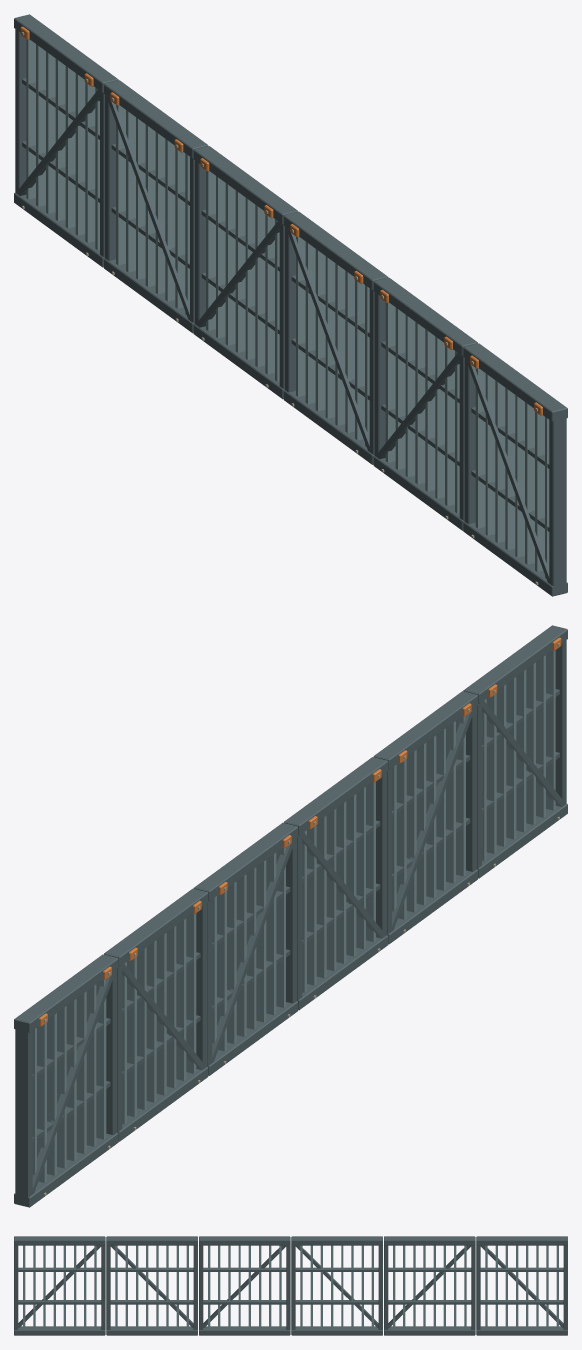
File: w4a-plate-gate-grate.glb
3 views of the same model, one above another, from view 1: azimuth 30°, elevation 25°; view 2: azimuth 150°, elevation 25°; view 3: azimuth 270°, elevation 25° (orthographic). The views are drawn at different scales.
Visible parts, largest first — view 1: Grate bay 01, Grate bay 02, Grate bay 03, Grate bay 04, Grate bay 06, Grate bay 05; view 2: Grate bay 06, Grate bay 05, Grate bay 04, Grate bay 03, Grate bay 01, Grate bay 02; view 3: Grate bay 01, Grate bay 06, Grate bay 03, Grate bay 04, Grate bay 02, Grate bay 05.
Part boxes in pixels (<box>): Grate bay 01: <box>463,343,567,596</box>; Grate bay 02: <box>373,277,477,530</box>; Grate bay 03: <box>283,211,388,464</box>; Grate bay 04: <box>193,146,298,399</box>; Grate bay 06: <box>14,14,118,267</box>; Grate bay 05: <box>104,80,208,333</box>; Grate bay 06: <box>14,954,118,1207</box>; Grate bay 05: <box>104,888,208,1141</box>; Grate bay 04: <box>193,822,298,1075</box>; Grate bay 03: <box>283,757,388,1010</box>; Grate bay 01: <box>463,625,567,878</box>; Grate bay 02: <box>373,691,477,944</box>; Grate bay 01: <box>14,1236,105,1335</box>; Grate bay 06: <box>476,1236,567,1335</box>; Grate bay 03: <box>199,1236,290,1335</box>; Grate bay 04: <box>291,1236,382,1335</box>; Grate bay 02: <box>106,1236,197,1335</box>; Grate bay 05: <box>384,1236,475,1335</box>.
Size of the model in its own units: 0.4085 by 3.65 by 19.26.
